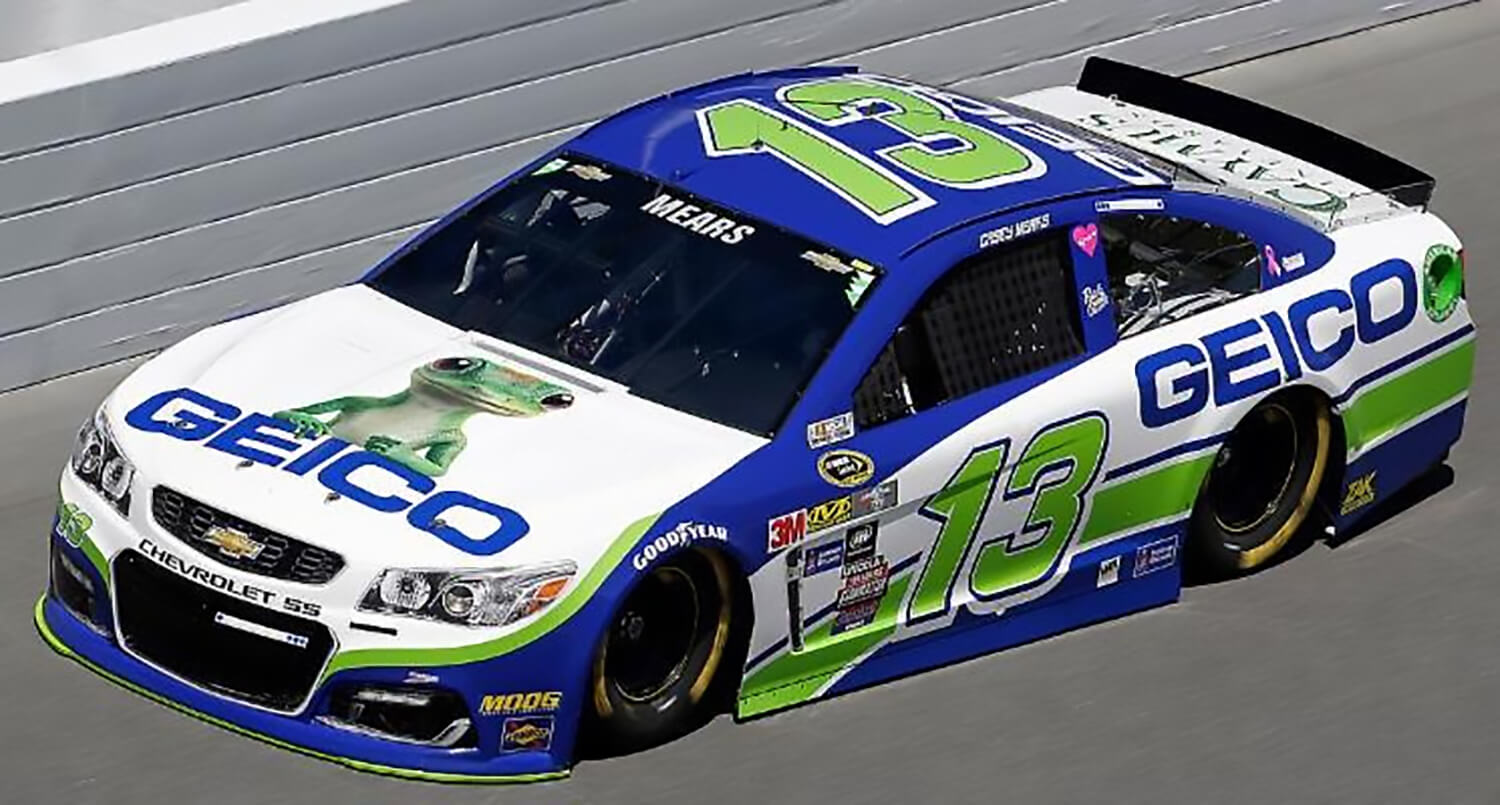Geico: (123, 370, 543, 564), (1115, 252, 1432, 432)
